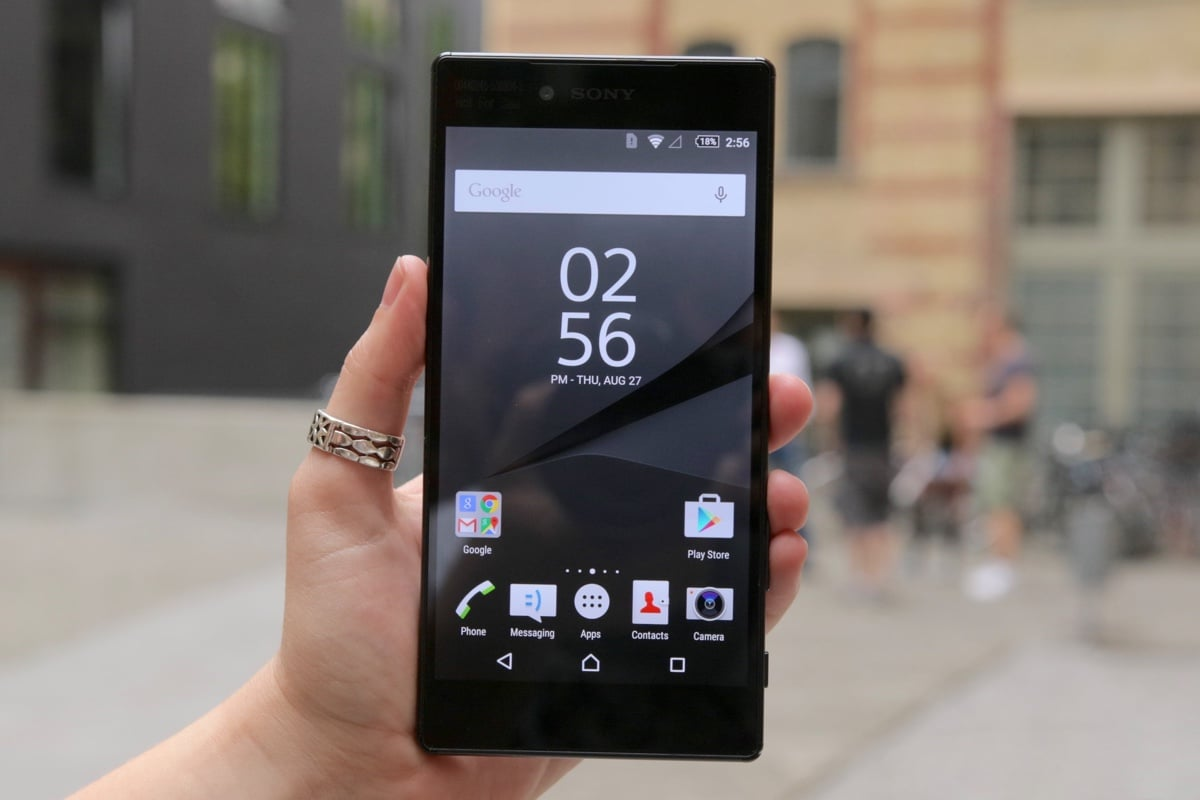smartphone: (417, 52, 775, 761)
